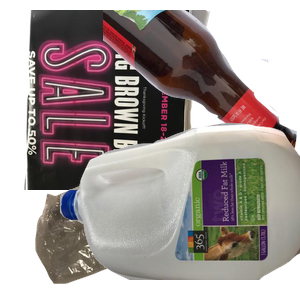glass: (103, 10, 300, 163)
paper: (22, 10, 225, 190)
plastic: (60, 120, 300, 300)
trash: (33, 145, 270, 300)
